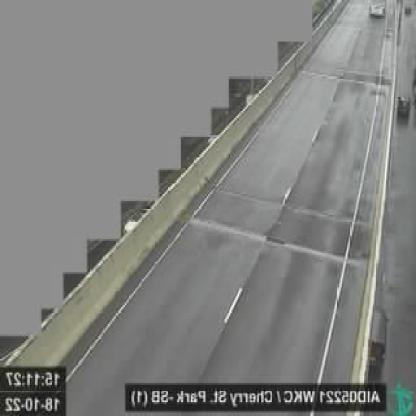Car: (367, 0, 387, 20)
